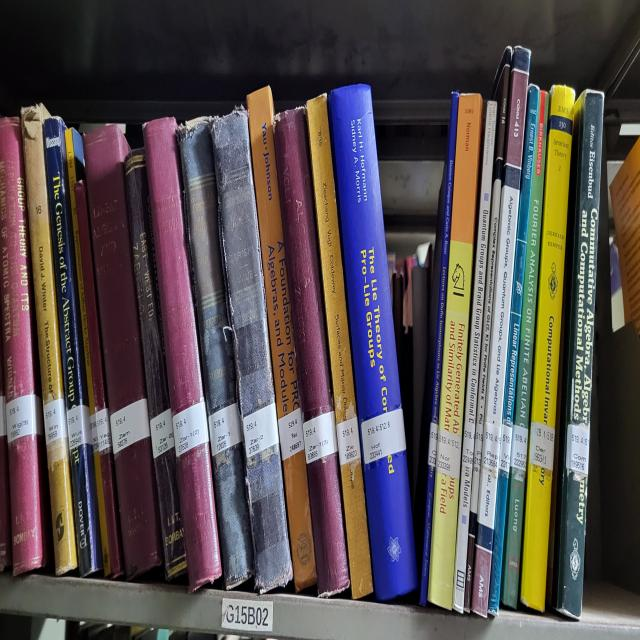Book: (329, 87, 418, 601), (211, 111, 292, 593), (274, 108, 350, 595), (144, 116, 221, 593), (179, 119, 254, 587), (84, 124, 161, 579), (248, 87, 316, 590), (471, 46, 530, 617), (306, 95, 372, 598), (520, 87, 575, 611), (552, 89, 604, 620), (429, 95, 482, 609), (125, 149, 188, 579), (44, 116, 102, 576), (21, 106, 78, 574), (489, 73, 538, 614), (65, 130, 124, 576), (501, 87, 548, 609), (0, 116, 52, 576), (415, 92, 459, 606), (452, 100, 496, 611), (470, 157, 502, 517)
Label: (361, 409, 406, 465), (110, 398, 150, 455), (172, 400, 209, 457), (242, 403, 279, 457), (302, 411, 338, 465), (6, 395, 42, 444), (209, 403, 241, 457), (278, 409, 304, 460), (436, 427, 461, 479), (529, 422, 555, 471), (566, 425, 590, 476), (150, 409, 175, 457), (66, 403, 92, 449), (336, 417, 360, 465), (44, 398, 68, 444), (481, 422, 501, 471), (510, 425, 529, 471), (95, 409, 112, 452), (499, 422, 512, 473), (428, 422, 438, 468), (474, 425, 484, 471)
